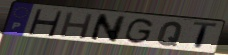G: (123, 18, 155, 45)
H: (26, 8, 65, 38), (57, 11, 96, 40)
N: (88, 13, 128, 43)
Q: (156, 21, 185, 48)
T: (192, 21, 220, 52)
